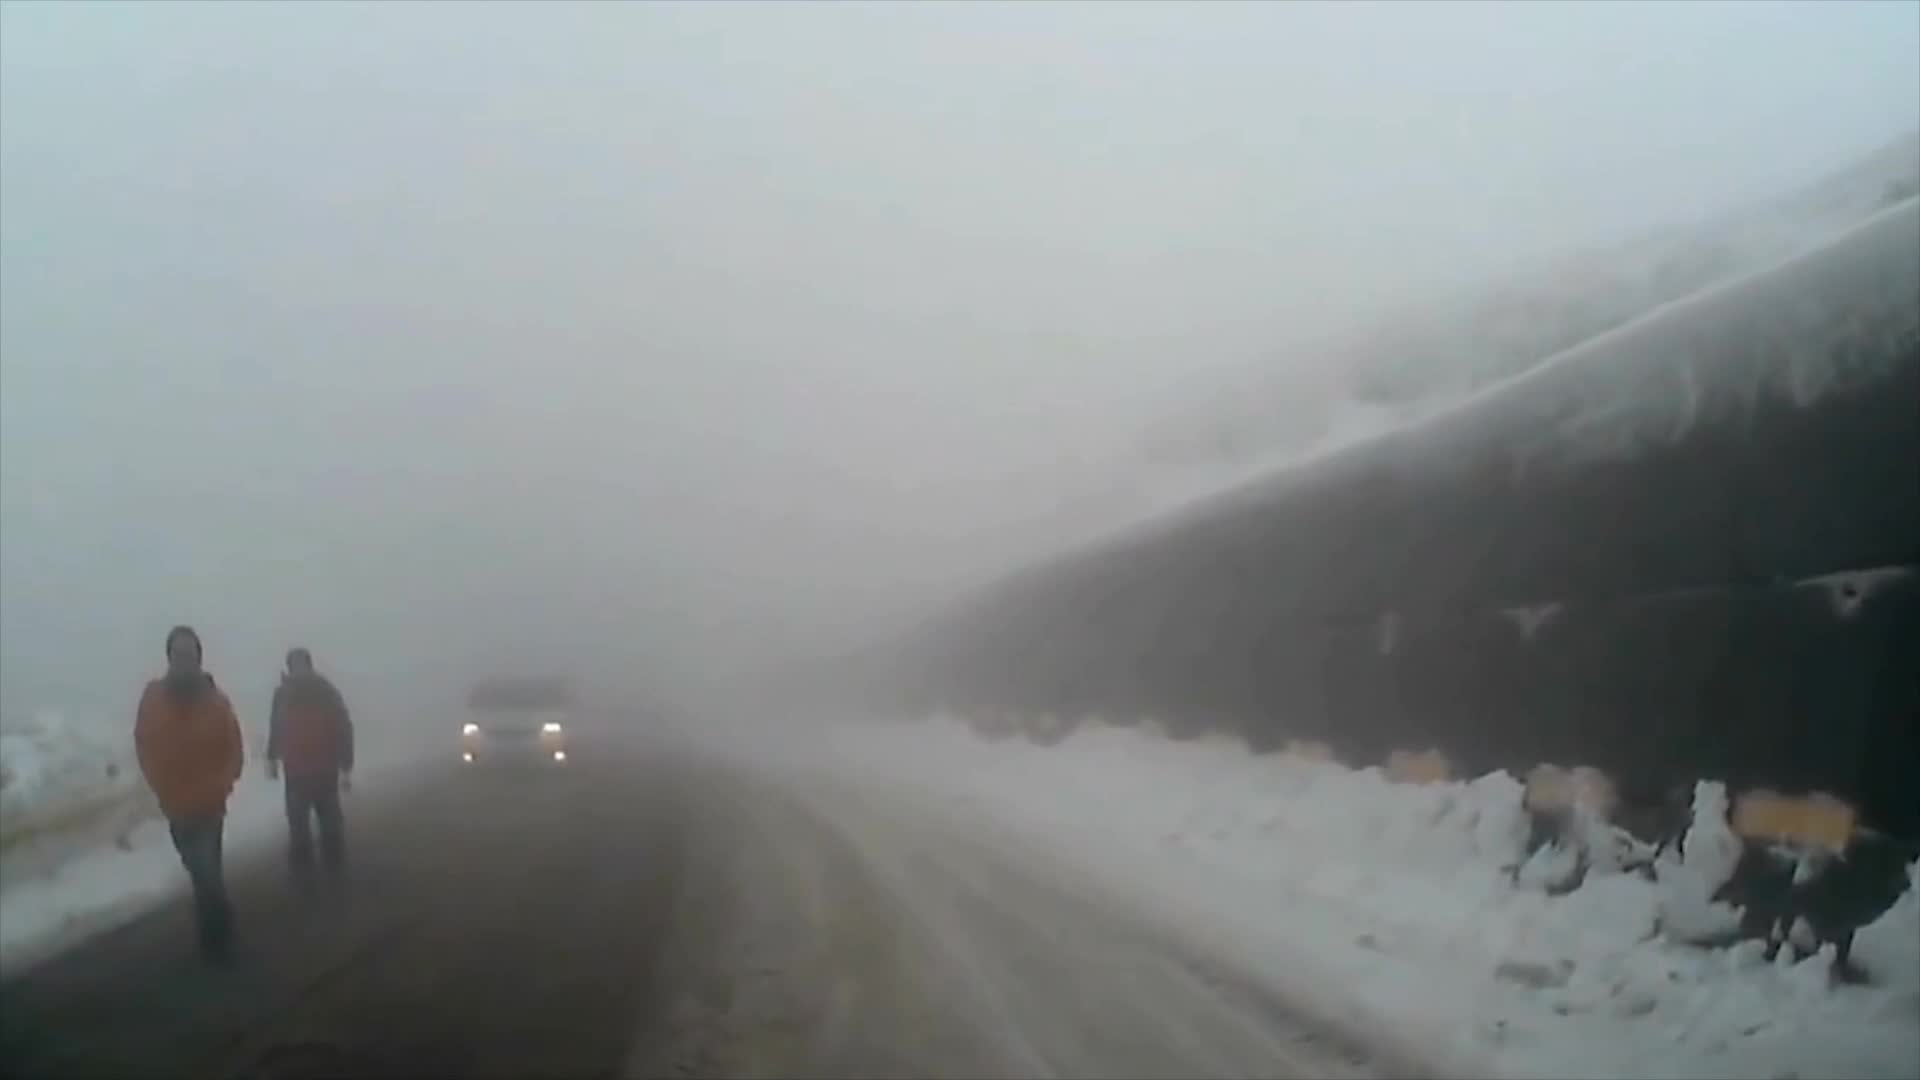pedestrian: (135, 621, 250, 968), (266, 646, 358, 890)
vehicle: (460, 672, 579, 778)
